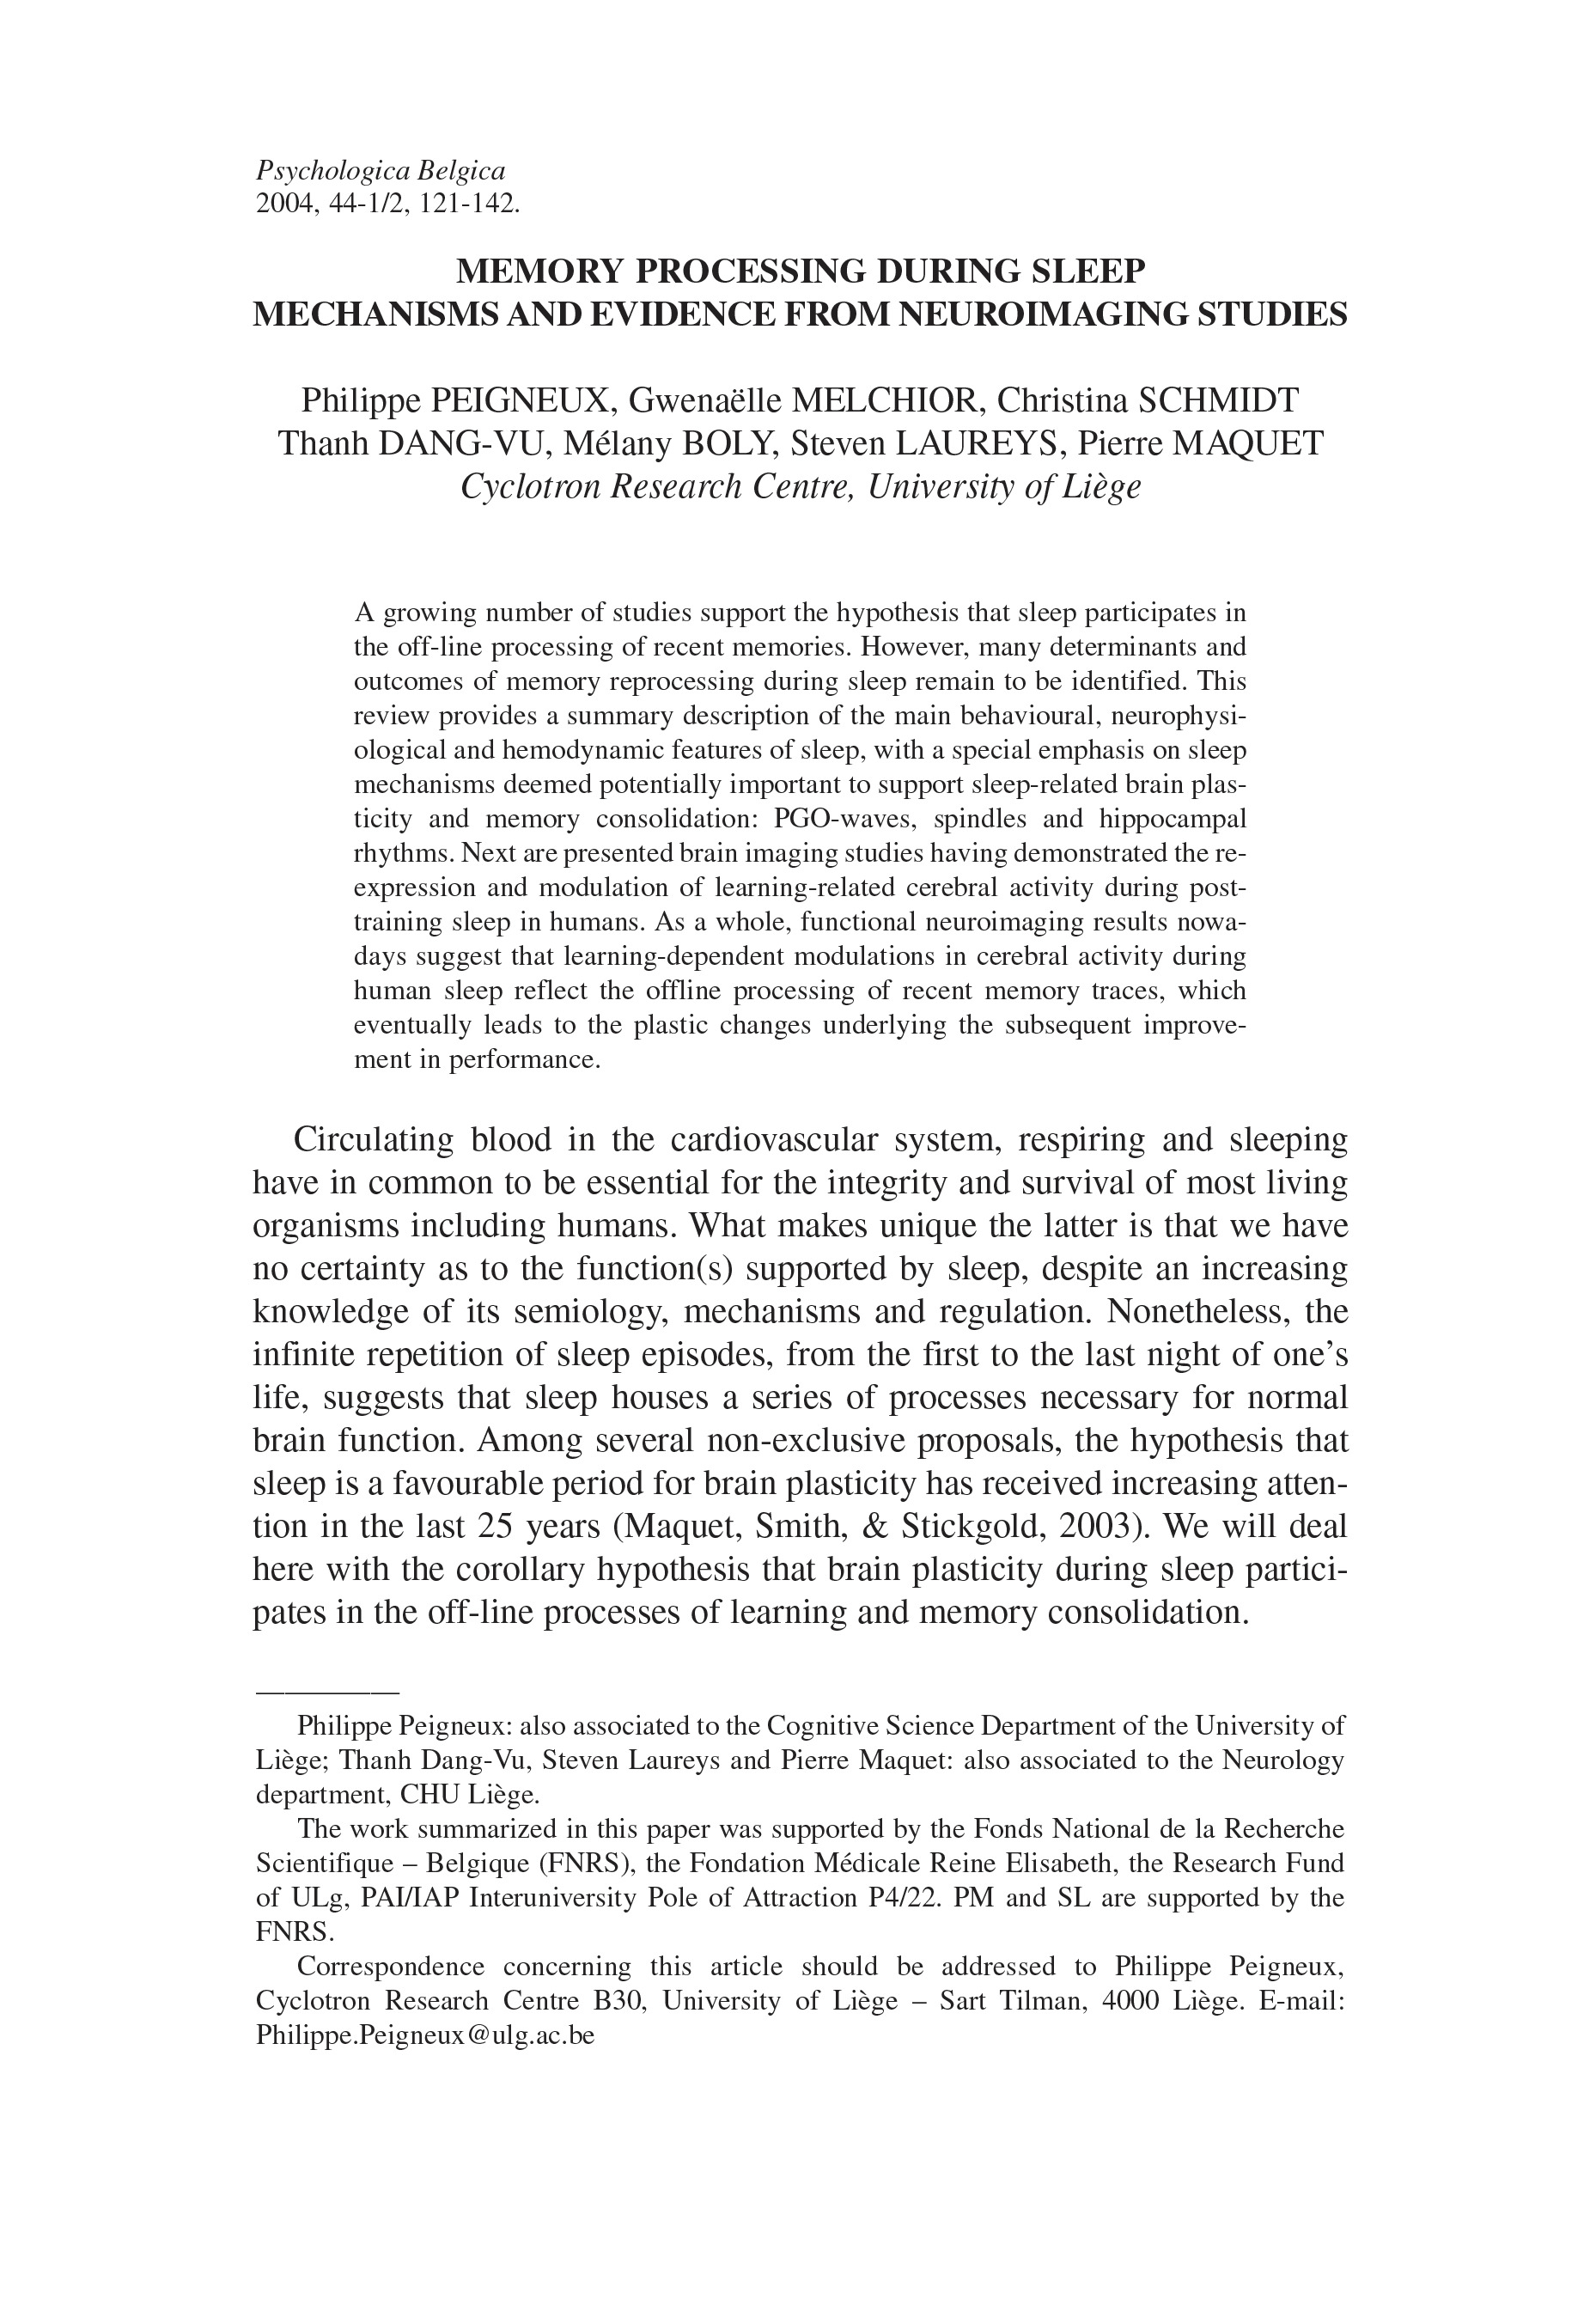section: (242, 238, 1372, 361)
text: (231, 1114, 1363, 1652), (349, 591, 1254, 1072), (231, 1719, 1372, 2052), (254, 387, 1342, 510), (231, 147, 538, 224)
